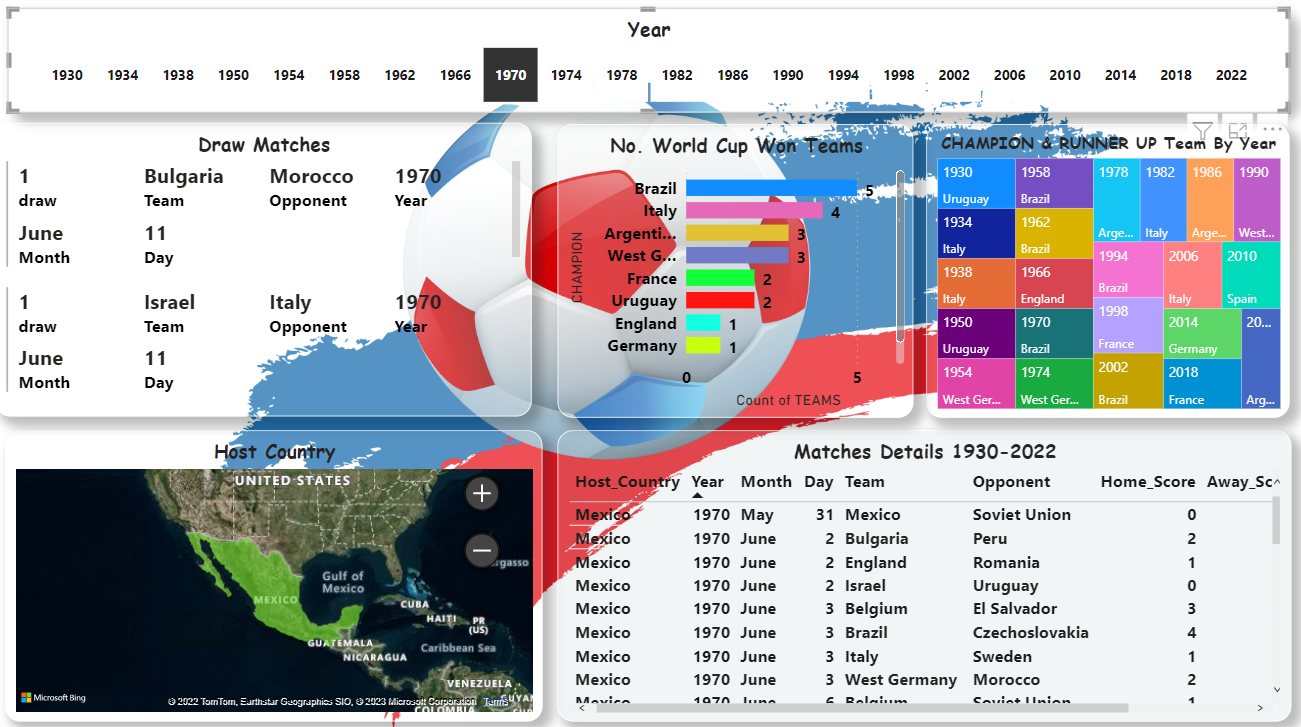

What the dashboard file says about the page in this screenshot:
{"tool":"powerbi","page":{"name":"Page 1","canvas":[1280,720],"ordinal":0},"visuals":[{"type":"slicer","title":"Year","fields":{"Values":["Fifa 1930-2022.Year"]},"box":[12.2,13.4,1253,102.7],"z":0},{"type":"filledMap","title":"Host Country","fields":{"Category":["Fifa 1930-2022.country"]},"box":[9.8,426.6,525.6,284.8],"z":1000},{"type":"tableEx","title":"Matches Details 1930-2022","fields":{"Values":["Fifa 1930-2022.Country","Fifa 1930-2022.date.Variation.Date Hierarchy.Year","Fifa 1930-2022.date.Variation.Date Hierarchy.Month","Fifa 1930-2022.date.Variation.Date Hierarchy.Day","Fifa 1930-2022.team","Fifa 1930-2022.opponent","Fifa 1930-2022.Home_Score","Sum(Fifa 1930-2022.away_score)","Fifa 1930-2022.winning_team"]},"box":[550.1,426.6,717.6,284.8],"z":2000},{"type":"multiRowCard","title":"Draw Matches","fields":{"Values":["Fifa 1930-2022.draw","Fifa 1930-2022.Team","Fifa 1930-2022.Opponent","Fifa 1930-2022.Date.Variation.Date Hierarchy.Year","Fifa 1930-2022.Date.Variation.Date Hierarchy.Month","Fifa 1930-2022.Date.Variation.Date Hierarchy.Day"]},"box":[0,125.9,524.4,287.3],"z":3000},{"type":"treemap","title":"CHAMPION & RUNNER UP Team By Year","fields":{"Group":["FIFA - World Cup Summary.YEAR"],"Details":["FIFA - World Cup Summary.CHAMPION"],"Values":["CountNonNull(FIFA - World Cup Summary.GOALS SCORED)"]},"box":[911,127,355,287],"z":4000},{"type":"barChart","title":"No. World Cup Won Teams","fields":{"Category":["FIFA - World Cup Summary.CHAMPION"],"Y":["CountNonNull(FIFA - World Cup Summary.TEAMS)"]},"box":[550.1,127.1,348.4,287.3],"z":5000}]}

Visuals, with their boxes in screenshot pixels (x1, y1, x2, y2), scaled from the page's 1280x720 canvas onto the 1301x727 screenshot:
"Year" slicer: rect(12, 14, 1286, 117)
"Host Country" filledMap: rect(10, 431, 544, 718)
"Matches Details 1930-2022" tableEx: rect(559, 431, 1288, 718)
"Draw Matches" multiRowCard: rect(0, 127, 533, 417)
"CHAMPION & RUNNER UP Team By Year" treemap: rect(926, 128, 1287, 418)
"No. World Cup Won Teams" barChart: rect(559, 128, 913, 418)
